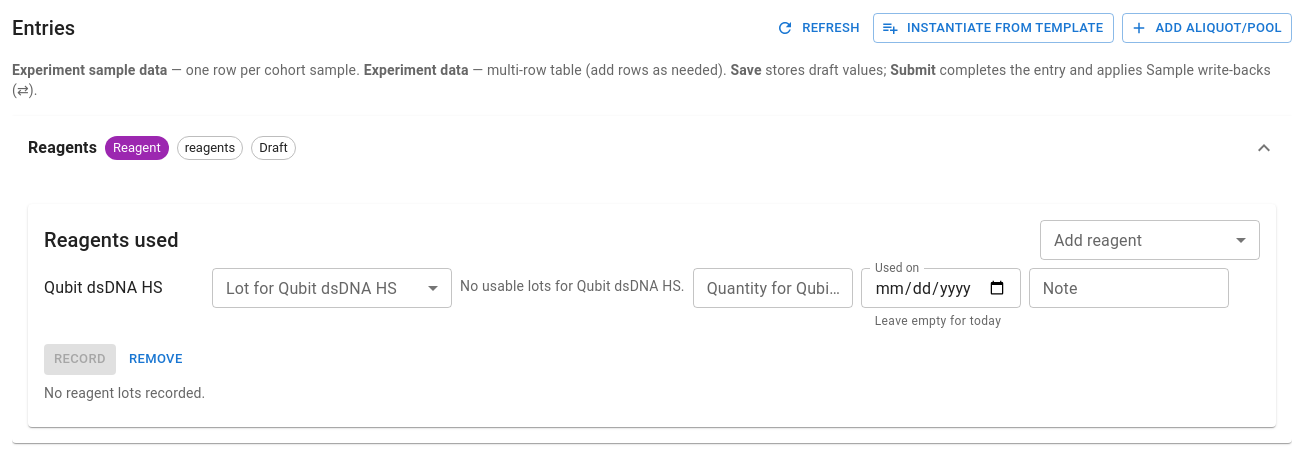
Experiment reagent capture › shows an inactivated reagent by name
Expected: the dropdown named "Lot for Qubit dsDNA HS" next to "Lot for Qubit dsDNA HS" is shown, [212, 268, 452, 308]
Press the mouse on the dropdown named "Add reagent" next to "Add reagent" at coordinates (1150, 240), box [1040, 220, 1260, 260]
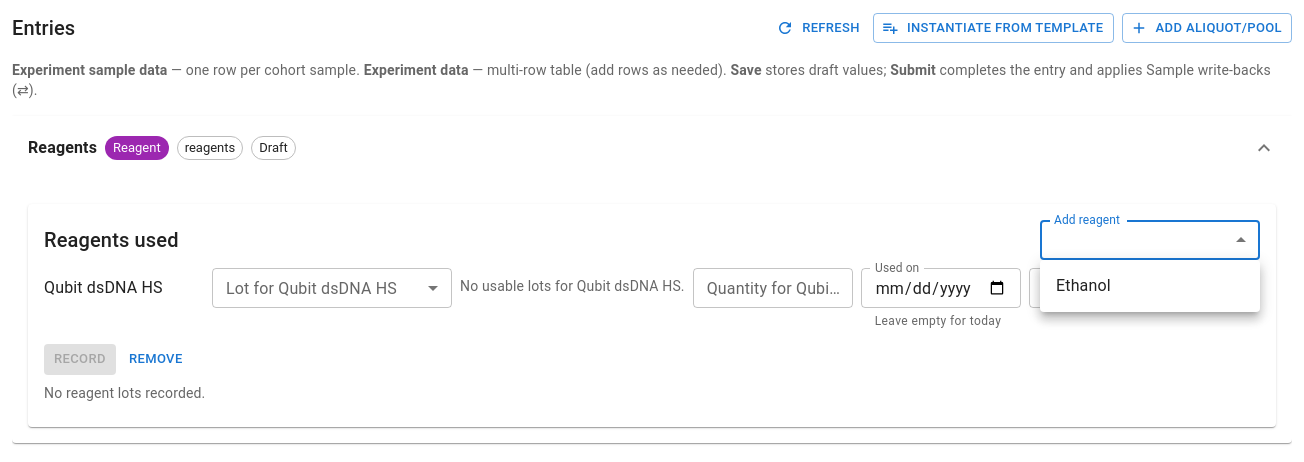
Now the option "Ethanol" is shown, box [1056, 276, 1111, 295]
